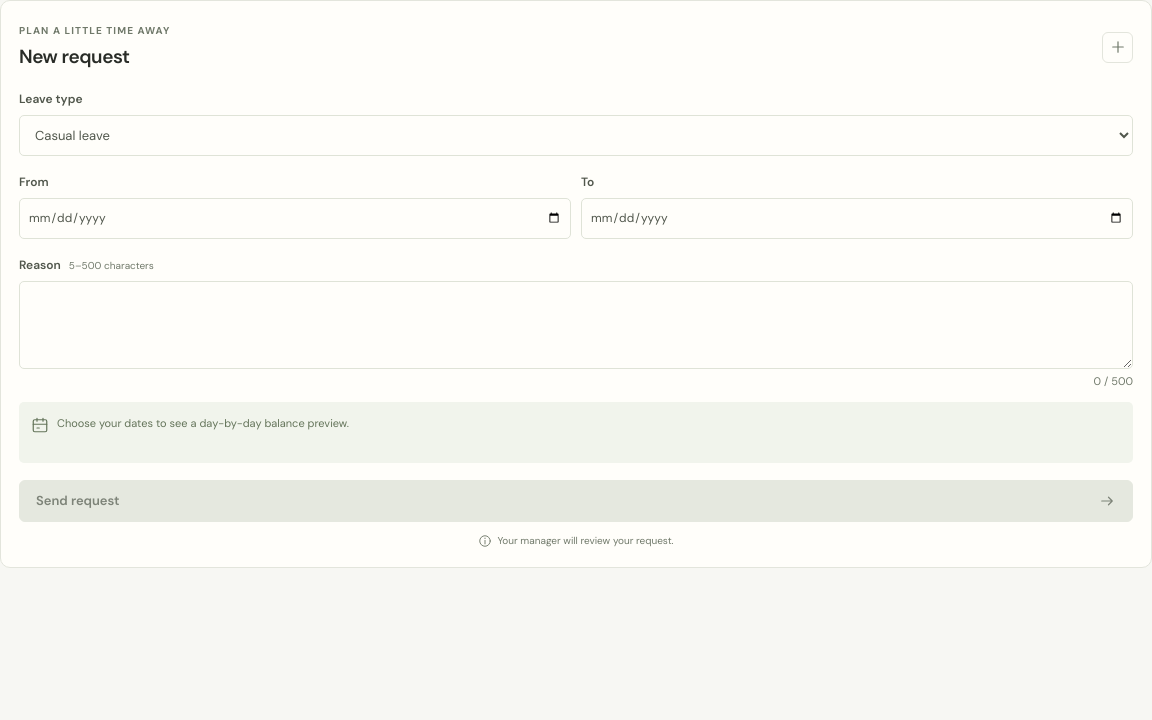
Scenario: blocks conflicts and exposes a dismissible network error with retry
Type "2027-09-06" into the date field labelled "From" at x=295, y=218, box [19,198,571,238]
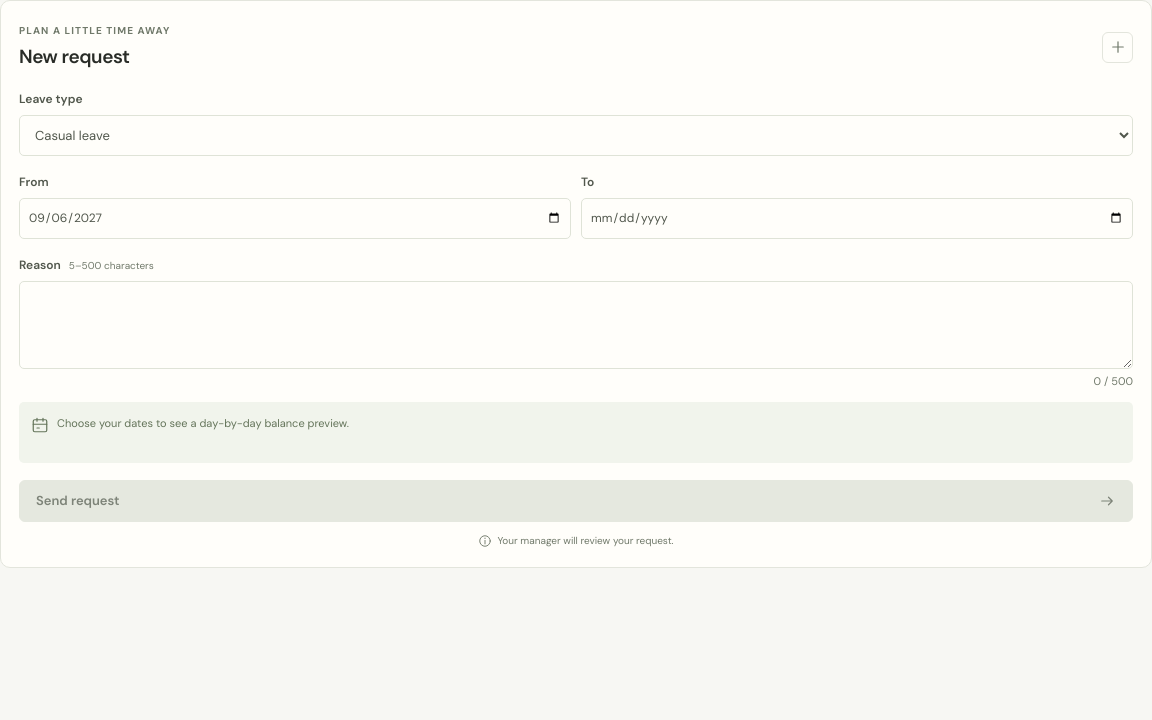
Type "2027-09-08" into the date field labelled "To" at x=857, y=218, box [581,198,1133,238]
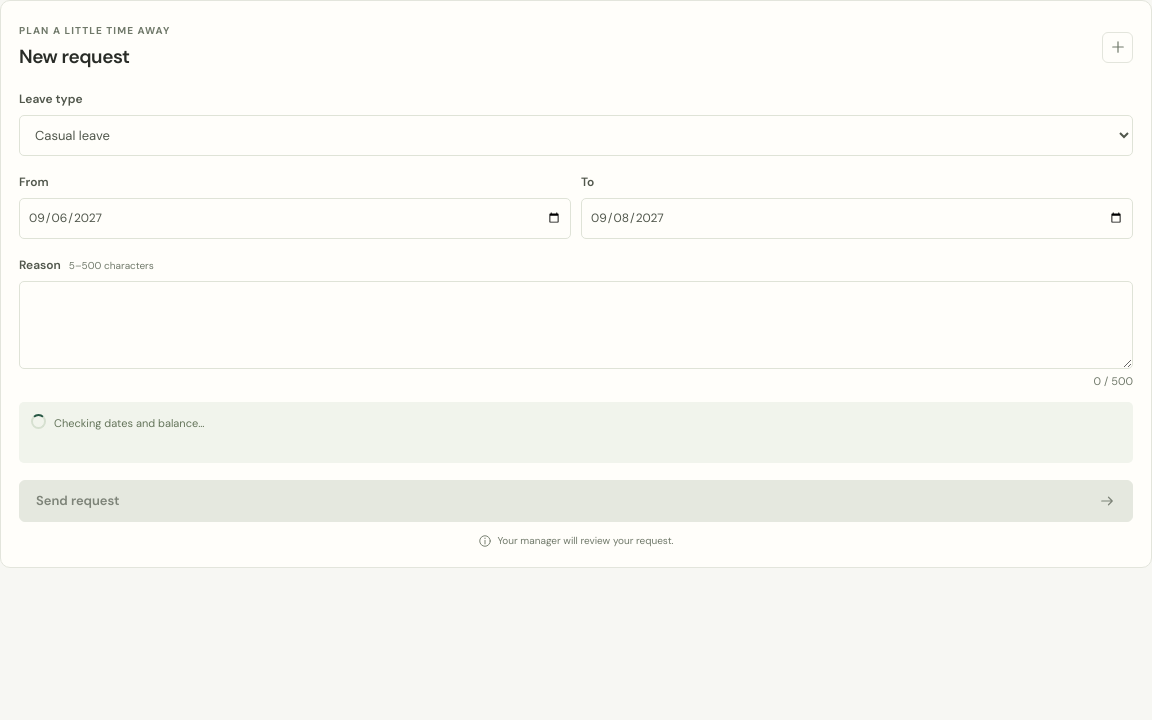
Type "Visiting my family." into the text box labelled "Reason 5–500 characters" at x=576, y=324, box [19,280,1133,368]
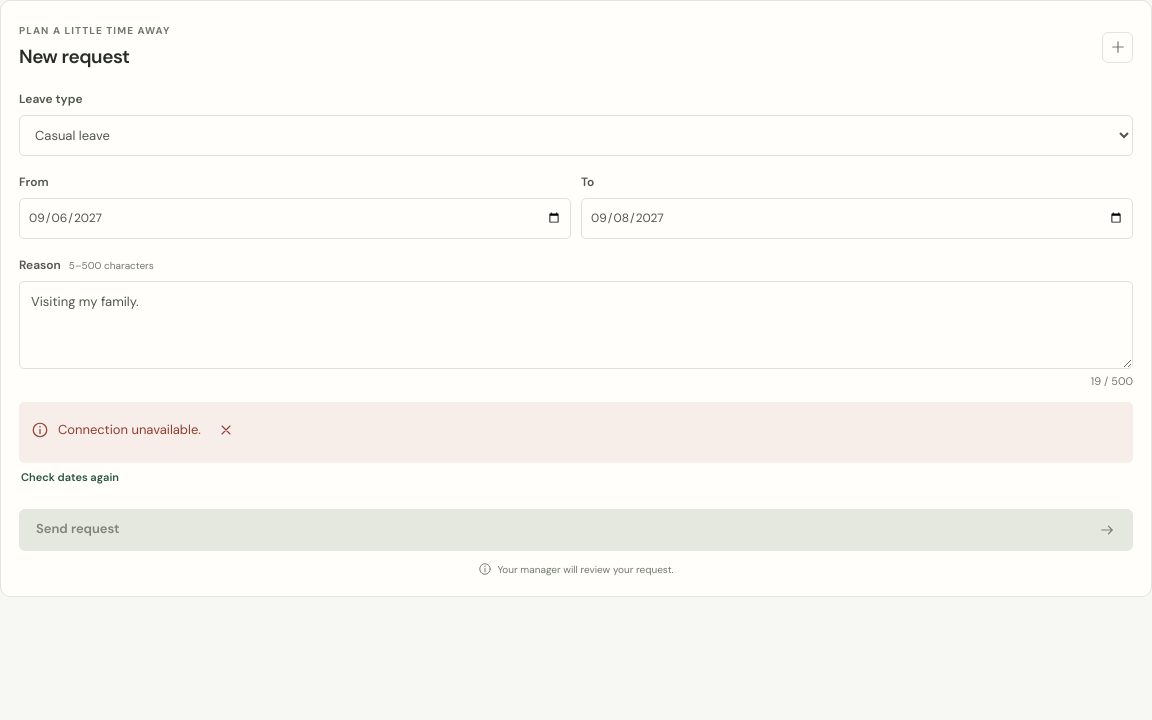
Result: the message reads "Connection unavailable." at [58,421,201,438]
Click the button named "Dismiss message" at x=226, y=430, box [210,414,242,446]
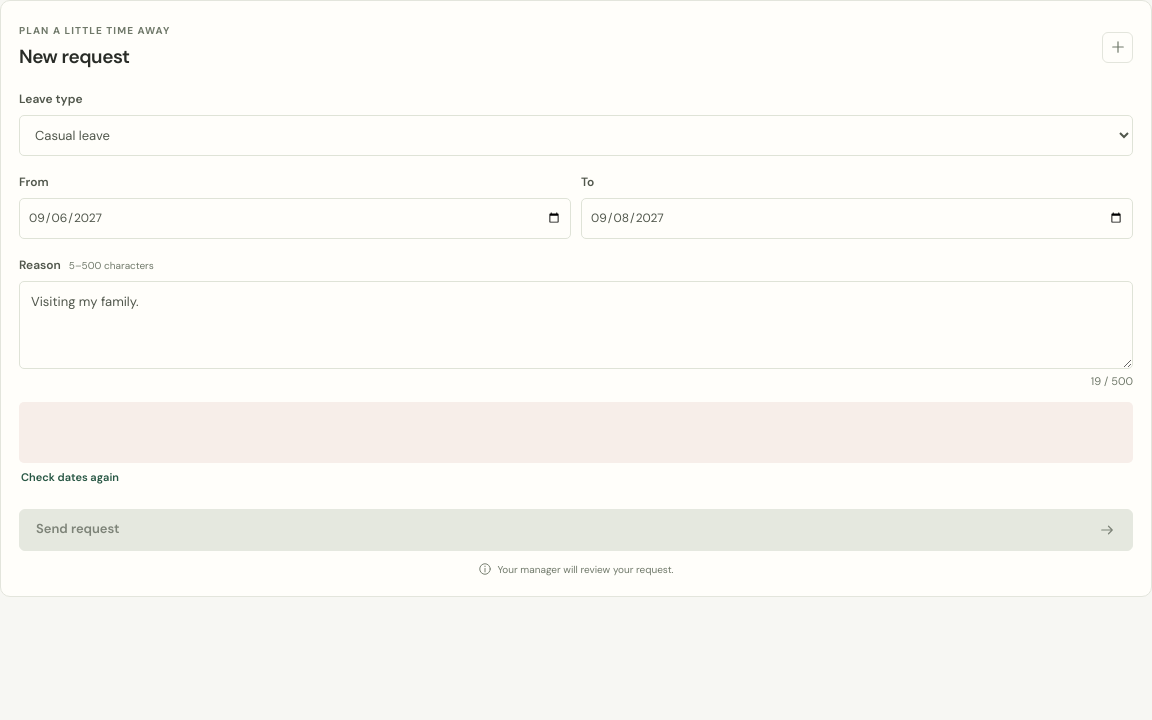
Expected: the button "Send request" is disabled, [19,508,1133,550]
Result: the message "Connection unavailable." is gone
Click the button "Check dates again" at x=70, y=477, box [19,463,121,492]
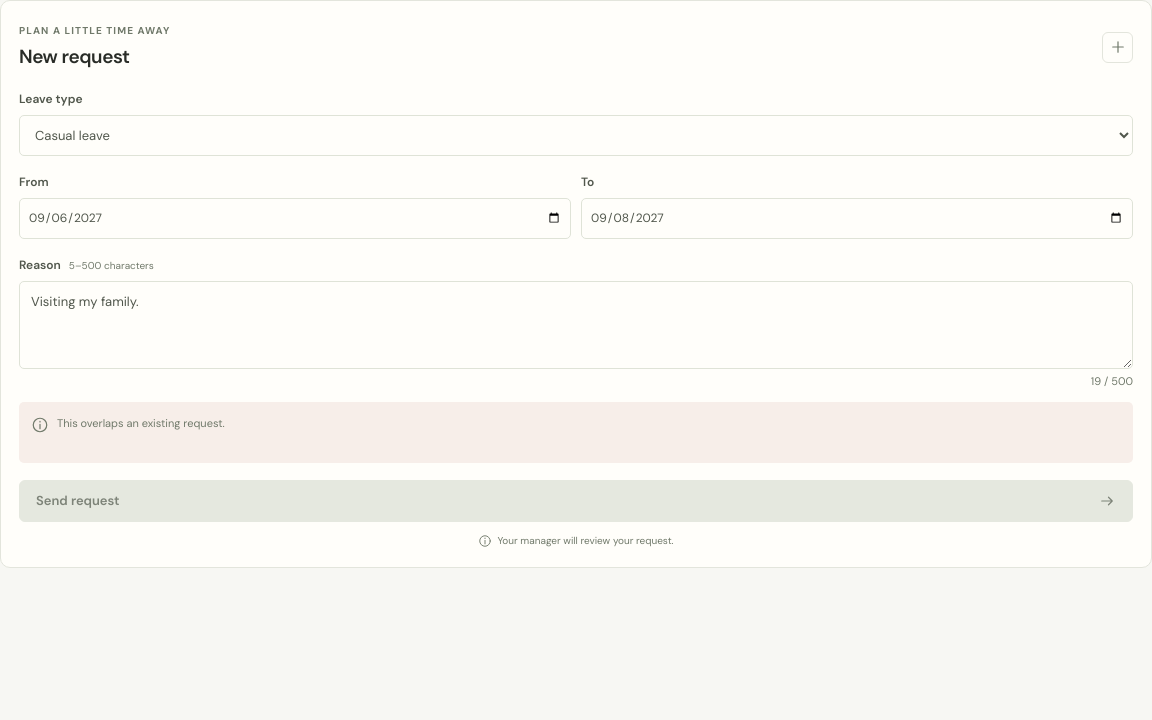
Expected: the button "Send request" is disabled, [19,480,1133,522]
Result: the text "This overlaps an existing request." is shown at [57,414,225,433]
